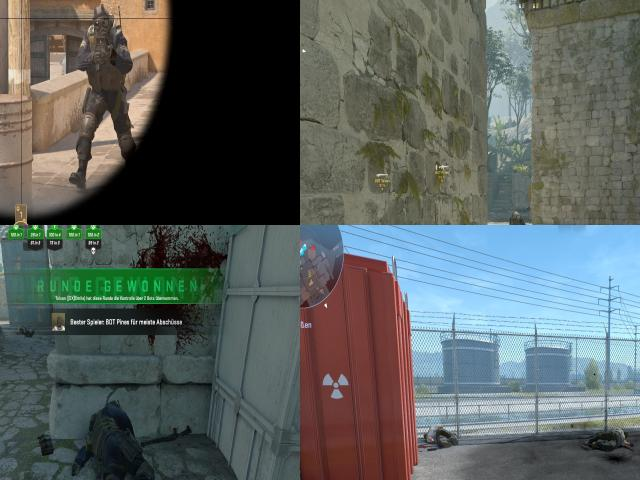CT: (81, 3, 126, 152), (506, 203, 527, 225)
CT-Head: (92, 8, 110, 35), (511, 208, 523, 220)
Dead: (83, 378, 149, 480), (582, 423, 636, 453), (420, 421, 461, 452)
